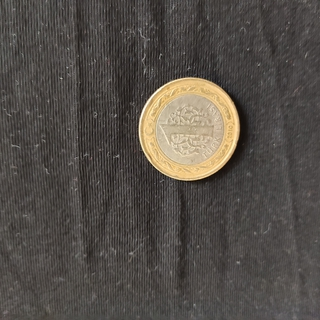1TL: (136, 75, 242, 182)
